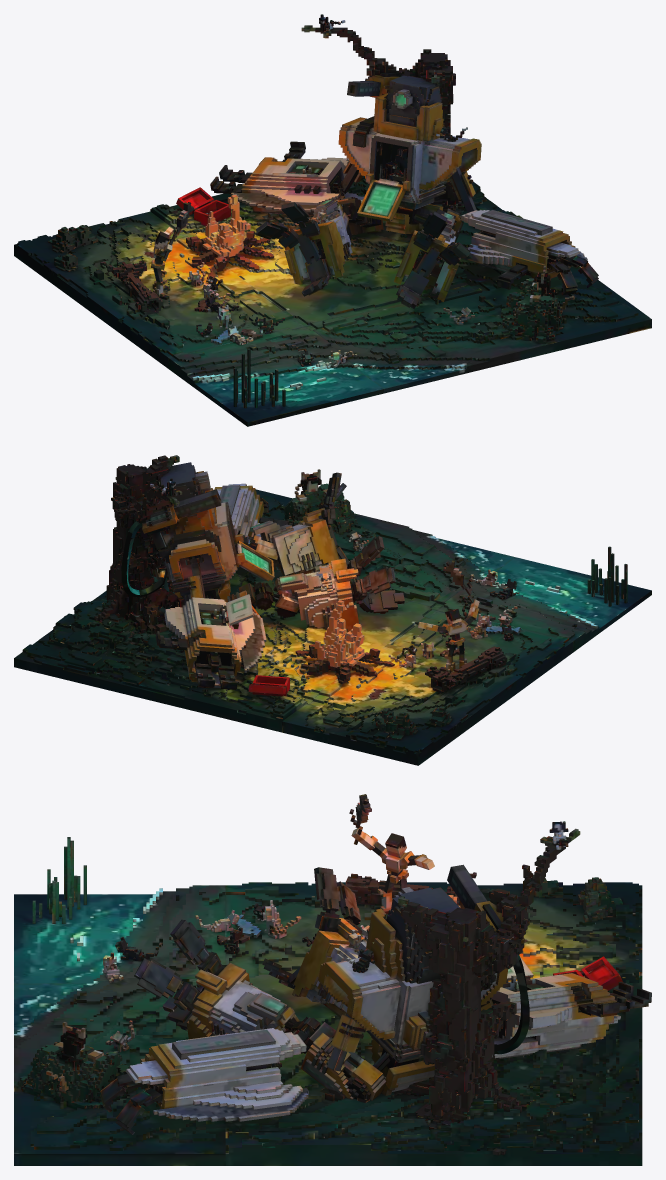
Rendered from island.glb.
3 renders of one model, top to bottom at view 1: azimuth 30°, elevation 25°; view 2: azimuth 150°, elevation 25°; view 3: azimuth 270°, elevation 25°, orthographic. The views are drawn at different scales.
Parts seen in each view (by area): view 1: _gltfNode_6, _gltfNode_10, _gltfNode_0; view 2: _gltfNode_6, _gltfNode_10, _gltfNode_0; view 3: _gltfNode_6, _gltfNode_10, _gltfNode_0.
Part boxes in pixels (<box>): _gltfNode_6: <box>14,176,651,426</box>; _gltfNode_10: <box>210,73,598,308</box>; _gltfNode_0: <box>48,14,574,408</box>; _gltfNode_6: <box>14,489,651,765</box>; _gltfNode_10: <box>137,462,404,689</box>; _gltfNode_0: <box>64,455,627,739</box>; _gltfNode_6: <box>14,882,642,1165</box>; _gltfNode_10: <box>100,864,651,1134</box>; _gltfNode_0: <box>17,794,622,1155</box>.
Bounding box in the file's own units: 191 × 87.26 × 193.
3 materials, 3 textured.
